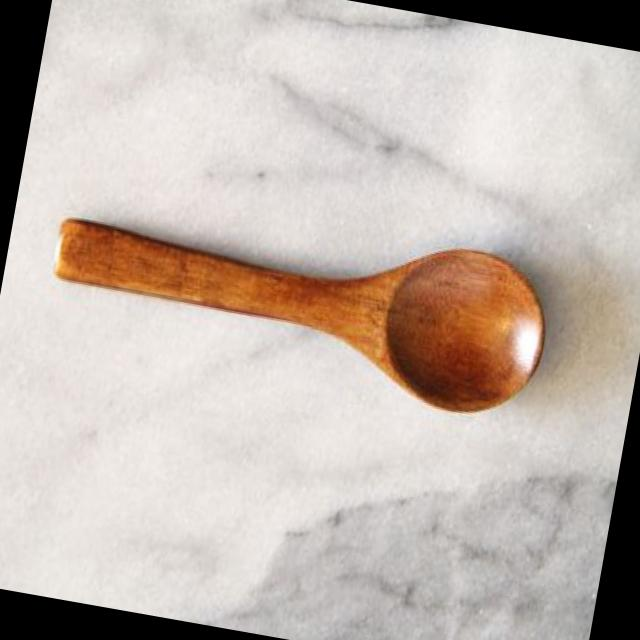spoon: (23, 147, 566, 441)
